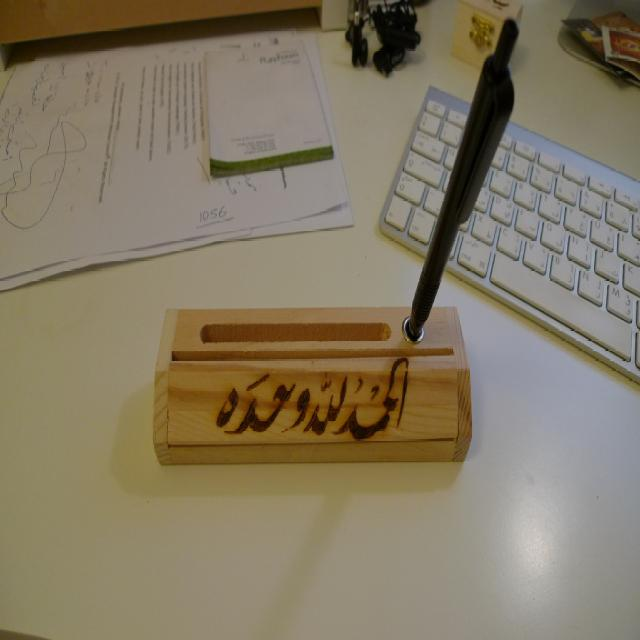pen: (409, 13, 517, 340)
